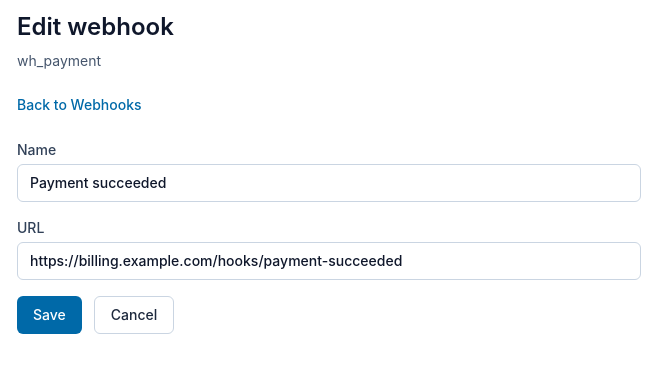
WebhookEditPage › does not submit invalid form data
The width and height of the screenshot is (659, 387).
Clear the field labelled "Name" at (329, 183), box [17, 164, 641, 202]
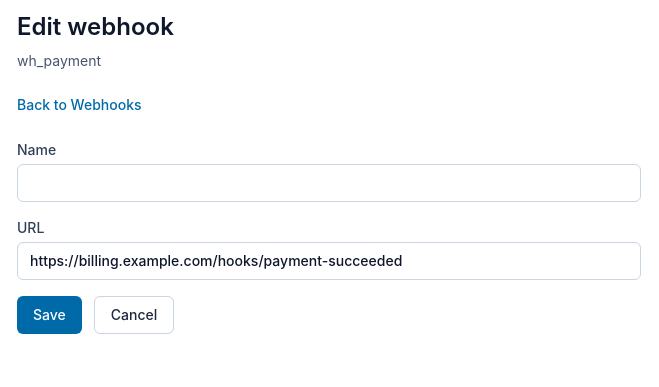
Click the button "Save" at (49, 315), box [17, 296, 82, 334]
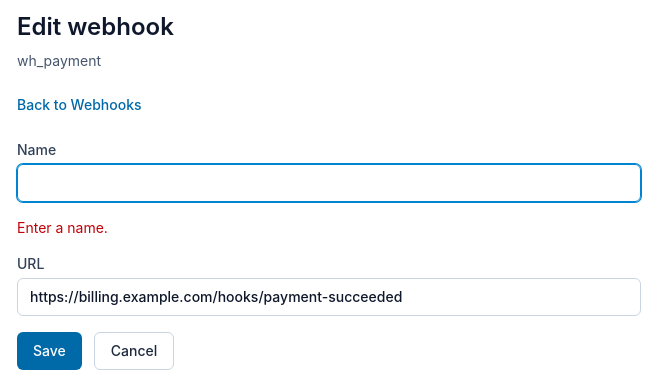
Now the text "Enter a name." is shown, box [17, 219, 108, 236]
